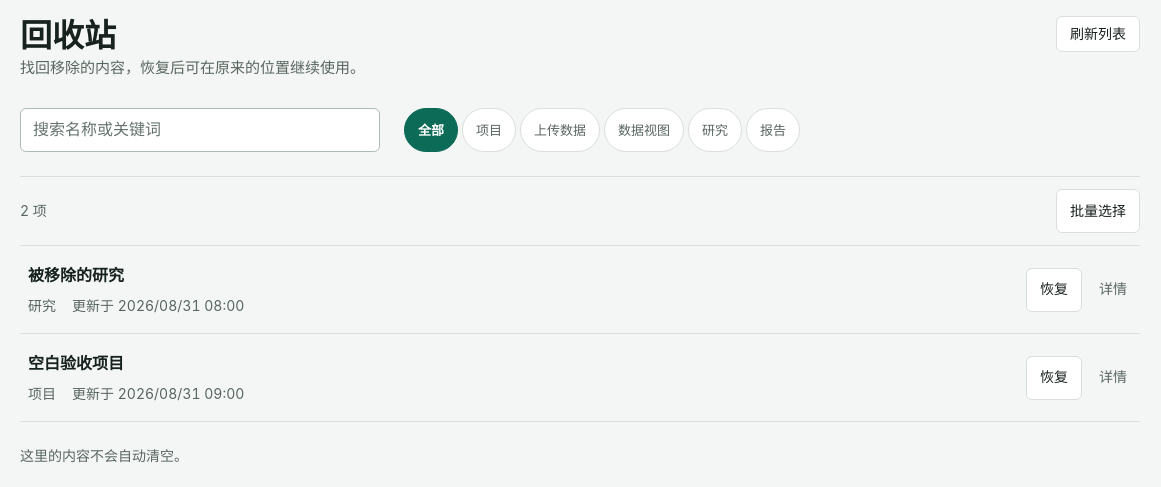
settles successful siblings immediately and requires rereading uncertain writes
expect the heading "空白验收项目" is shown: met, box [28,353,124,373]
Click the button "批量选择": (1098, 211) [1056,189,1140,233]
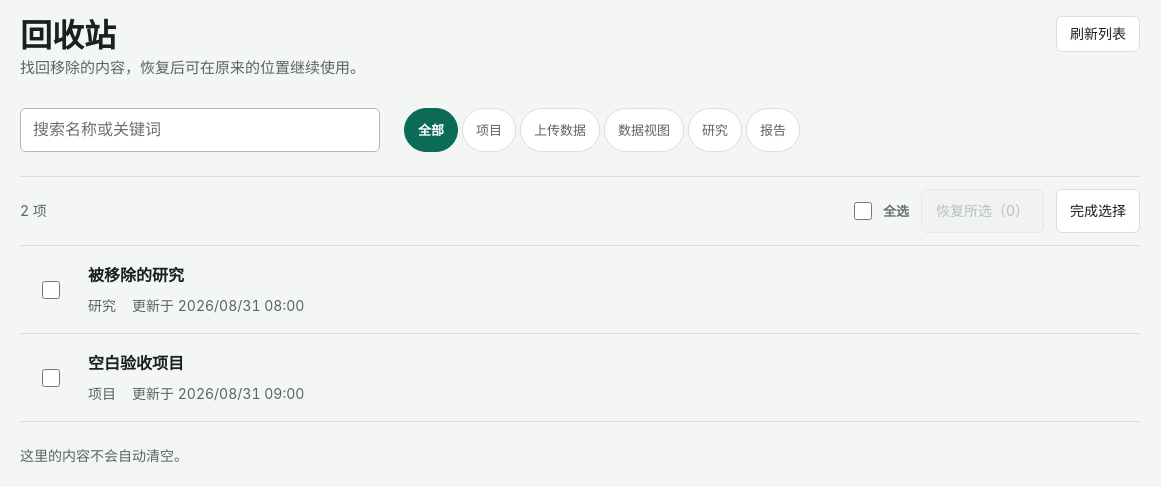
Click the checkbox named "选择当前显示的内容": (863, 211) [854,193,872,229]
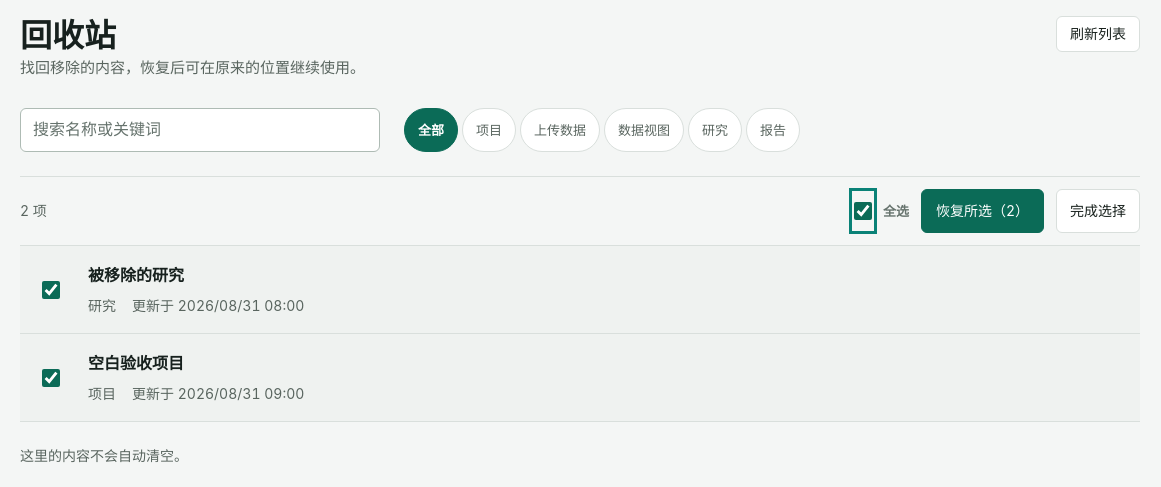
Click the button "恢复所选（2）": (982, 211) [921,189,1044,233]
Wait 10000 ms
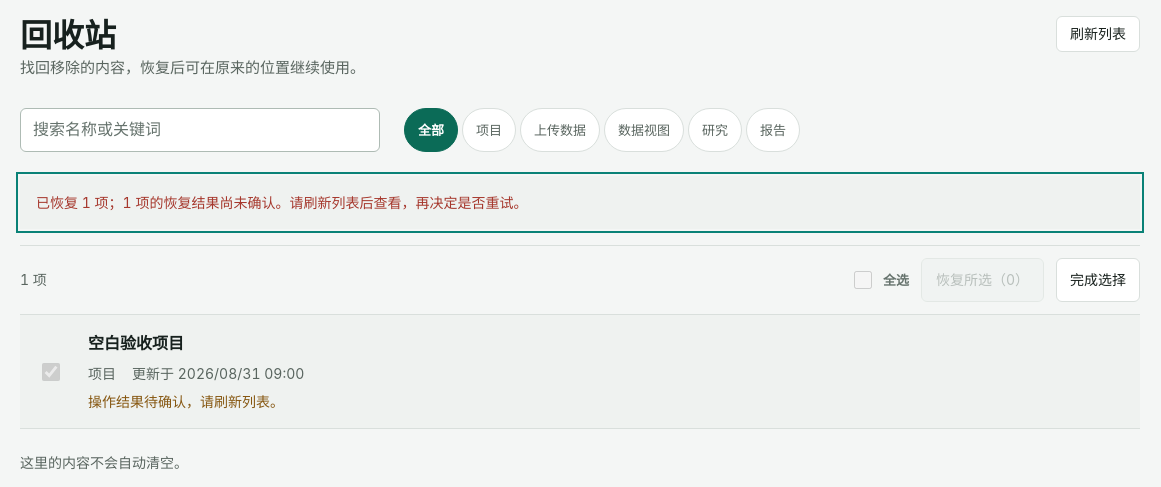
expect the heading "被移除的研究" is gone: met
expect the message shows "已恢复 1 项；1 项的恢复结果尚未确认": met, box [36,194,527,211]
expect the checkbox named "选择 空白验收项目" is disabled: met, box [42,354,60,390]
Click the button "刷新列表": (1098, 34) [1056,16,1140,52]
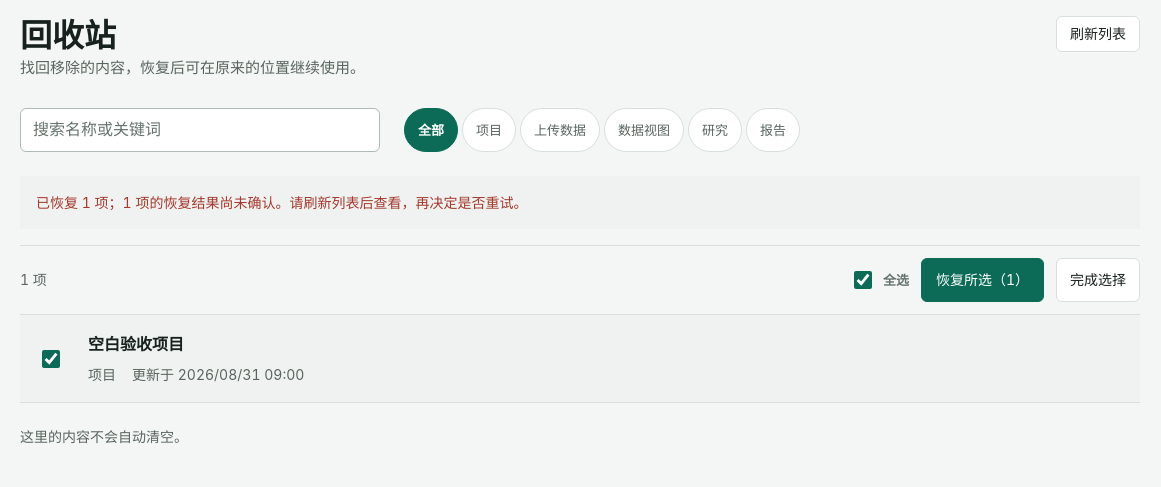
expect the checkbox named "选择 空白验收项目" is enabled: met, box [42,340,60,376]
